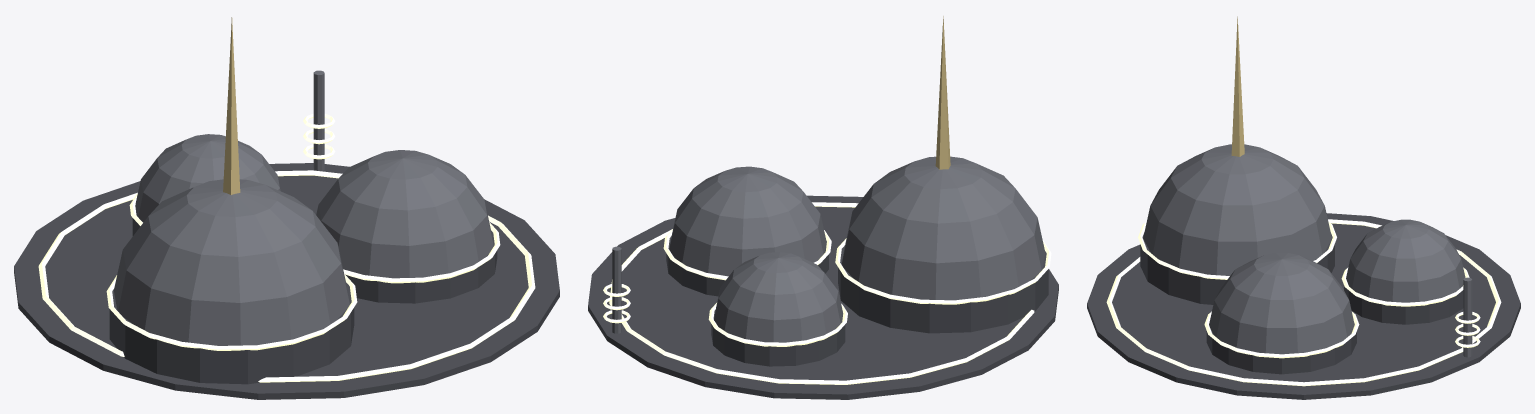
The model's file is zone_low_3_t3.glb.
The picture shows the model from 3 angles, left to right: view 1: azimuth 30°, elevation 25°; view 2: azimuth 150°, elevation 25°; view 3: azimuth 270°, elevation 25°; orthographic projection. The views are drawn at different scales.
Parts seen in each view (by area): view 1: zone_low_3_t3, detail; view 2: zone_low_3_t3, detail; view 3: zone_low_3_t3, detail.
Part boxes in pixels (bbox=[...]): zone_low_3_t3: bbox=[14, 17, 559, 399]; detail: bbox=[38, 70, 535, 382]; zone_low_3_t3: bbox=[588, 16, 1058, 399]; detail: bbox=[603, 202, 1034, 384]; zone_low_3_t3: bbox=[1087, 16, 1520, 399]; detail: bbox=[1106, 219, 1501, 386].
Bounding box in the file's own units: 19.6 × 12.81 × 19.6.
